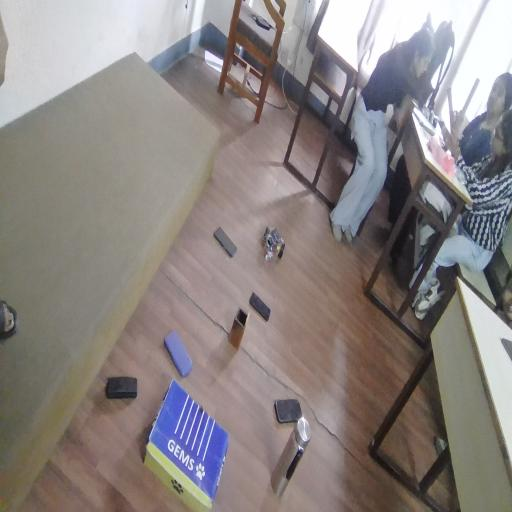car: (256, 209, 305, 278)
